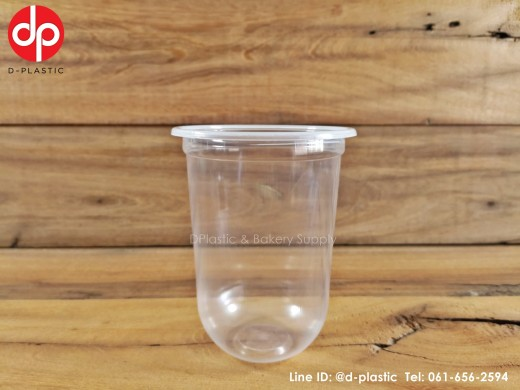plastic_bottle: (168, 121, 359, 366)
